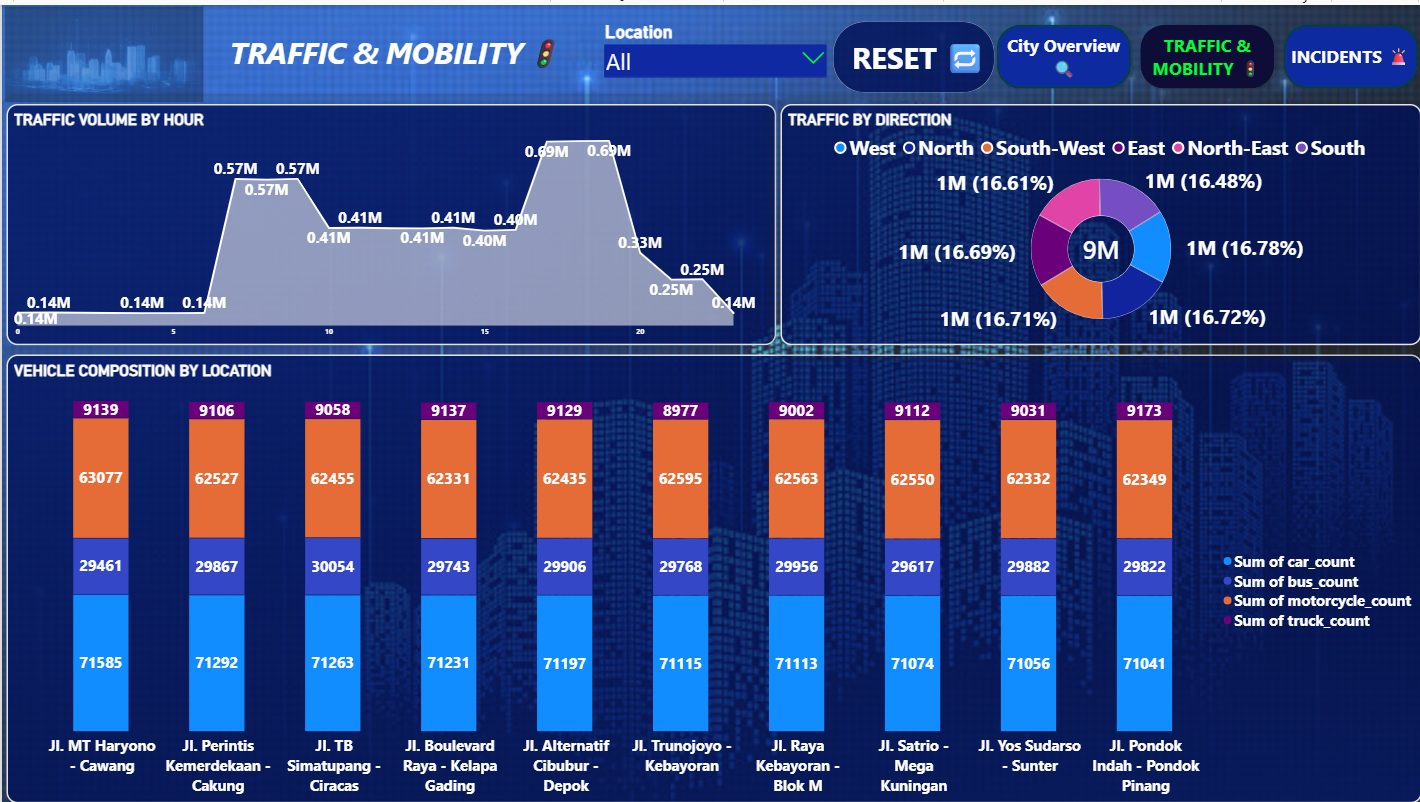

Layout of this report page (visuals, bound fields, positions):
{"tool":"powerbi","page":{"name":"TRAFFIC & MOBILITY 🚦","canvas":[3840,2160],"ordinal":1},"visuals":[{"type":"textbox","box":[0,0,3838.5,286.2],"z":0},{"type":"image","box":[9.1,4.5,536,258.9],"z":1000},{"type":"pageNavigator","box":[2681.6,45.4,1158.4,190.8],"z":2000},{"type":"lineChart","title":"TRAFFIC VOLUME BY HOUR","fields":{"Category":["traffic_sensor_data.hour"],"Y":["Measure.Total vehicles"]},"box":[11.3,266.5,2080.6,652],"z":3000},{"type":"columnChart","title":"VEHICLE COMPOSITION BY LOCATION","fields":{"Category":["traffic_sensor_data.location"],"Y":["Sum(traffic_sensor_data.car_count)","Sum(traffic_sensor_data.bus_count)","Sum(traffic_sensor_data.motorcycle_count)","Sum(traffic_sensor_data.truck_count)"]},"box":[11.3,946.8,3826.8,1213.2],"z":4000},{"type":"donutChart","title":"TRAFFIC BY DIRECTION","fields":{"Y":["Measure.Total vehicles"],"Category":["traffic_sensor_data.direction"]},"box":[2105,266.4,1732.9,652.1],"z":5000},{"type":"actionButton","box":[2245.1,45.4,436.5,192.8],"z":6000},{"type":"slicer","fields":{"Values":["Locations.Location"]},"box":[1621.4,45.4,612.3,192.8],"z":7000}]}

Visuals, with their boxes in screenshot pixels (x1, y1, x2, y2), scaled from the page's 3840x2160 canvas onto the 1420x802 screenshot:
textbox: 0/0/1419/106
image: 3/2/202/98
pageNavigator: 992/17/1419/88
"TRAFFIC VOLUME BY HOUR" lineChart: 4/99/774/341
"VEHICLE COMPOSITION BY LOCATION" columnChart: 4/352/1419/801
"TRAFFIC BY DIRECTION" donutChart: 778/99/1419/341
actionButton: 830/17/992/88
slicer - Locations.Location: 600/17/826/88
